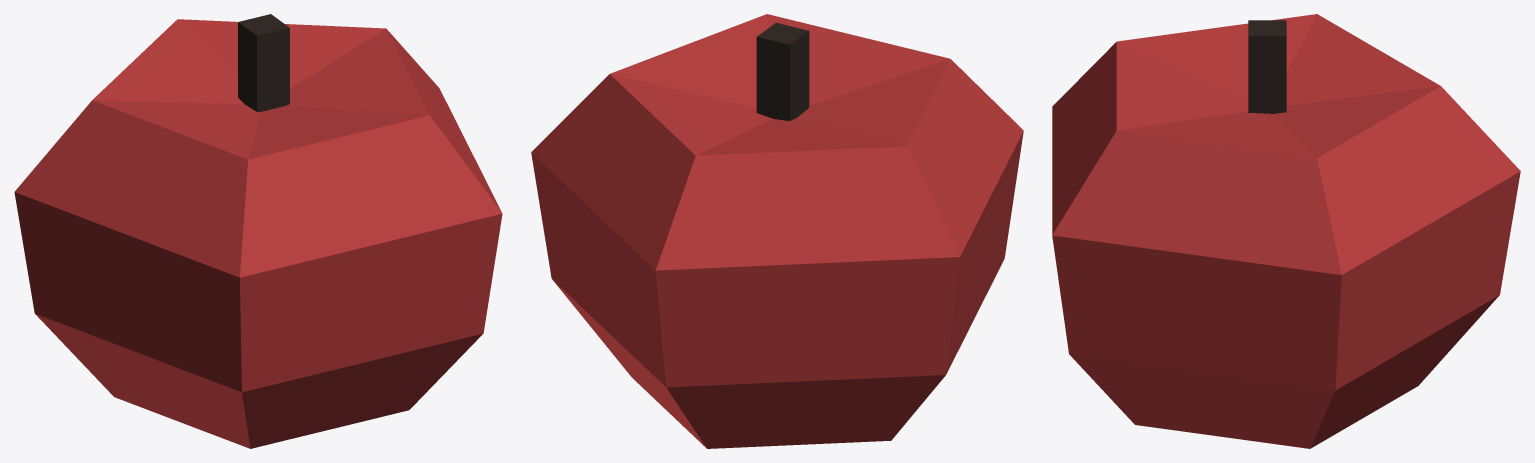
The model's file is apple.fbx.
3 views of the same model, side by side, from view 1: azimuth 30°, elevation 25°; view 2: azimuth 150°, elevation 25°; view 3: azimuth 270°, elevation 25° (orthographic).
Parts seen in each view (by area): view 1: Sphere.002; view 2: Sphere.002; view 3: Sphere.002.
Boxes of the visible parts, x1,y1,x2,y2 form: Sphere.002: (14, 14, 502, 448); Sphere.002: (531, 14, 1023, 448); Sphere.002: (1052, 14, 1520, 448).
Bounding box in the file's own units: 381 × 305 × 362.
